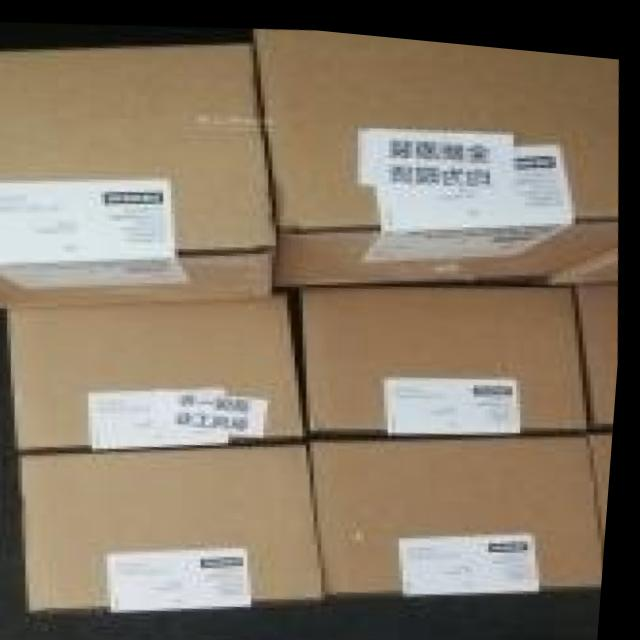box: (253, 23, 621, 280), (0, 38, 283, 306), (25, 435, 333, 614), (12, 283, 312, 451), (316, 422, 610, 590), (306, 273, 596, 427)
